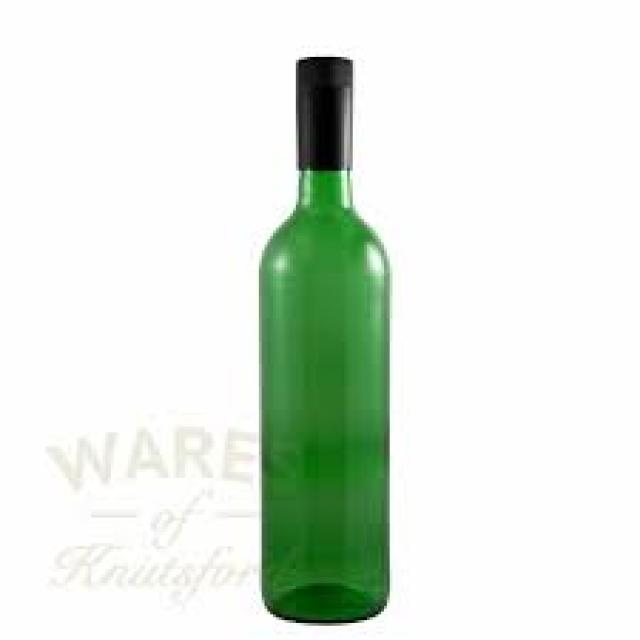glass: (253, 57, 387, 623)
